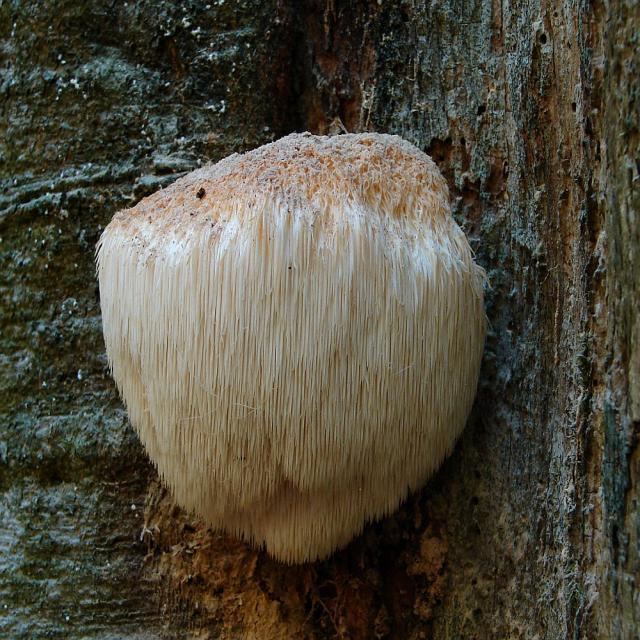Hericium erinaceus: (97, 128, 489, 558)
